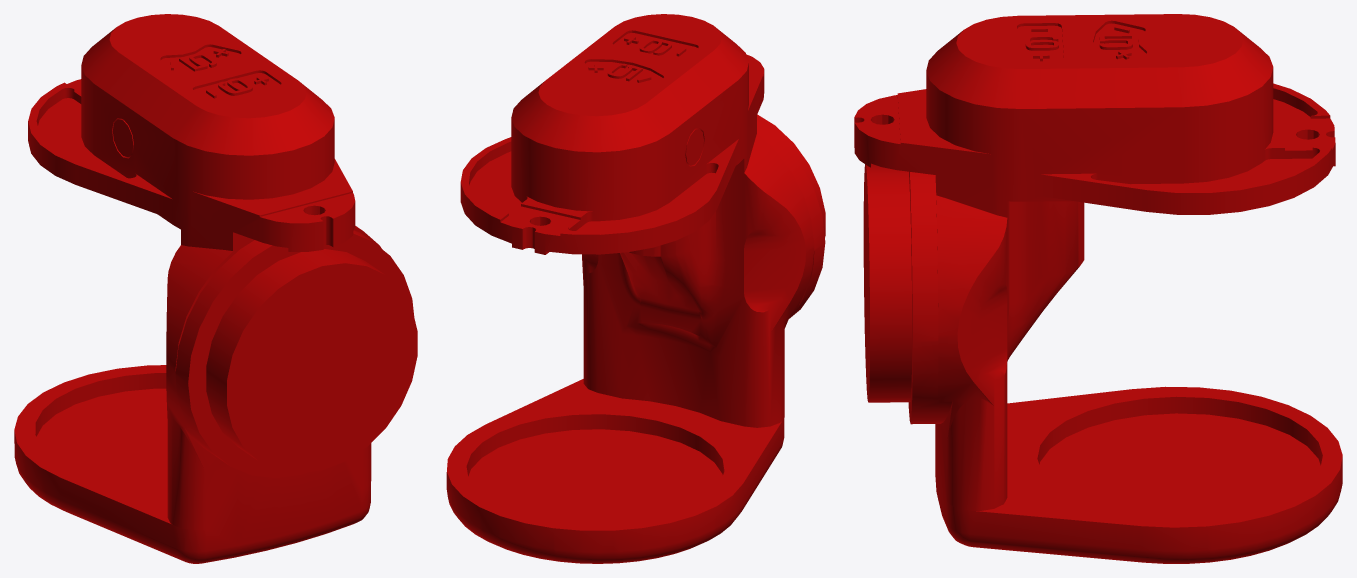
3 renders of one model, left to right at view 1: azimuth 30°, elevation 25°; view 2: azimuth 150°, elevation 25°; view 3: azimuth 270°, elevation 25°, orthographic. The views are drawn at different scales.
Visible parts, largest first — view 1: link_5; view 2: link_5; view 3: link_5.
Boxes of the visible parts, left/top/right/bottom form: link_5: left=14, top=14, right=417, bottom=563; link_5: left=446, top=14, right=825, bottom=563; link_5: left=854, top=14, right=1342, bottom=563.
Size of the model in its own units: 0.222 by 0.3379 by 0.325.
